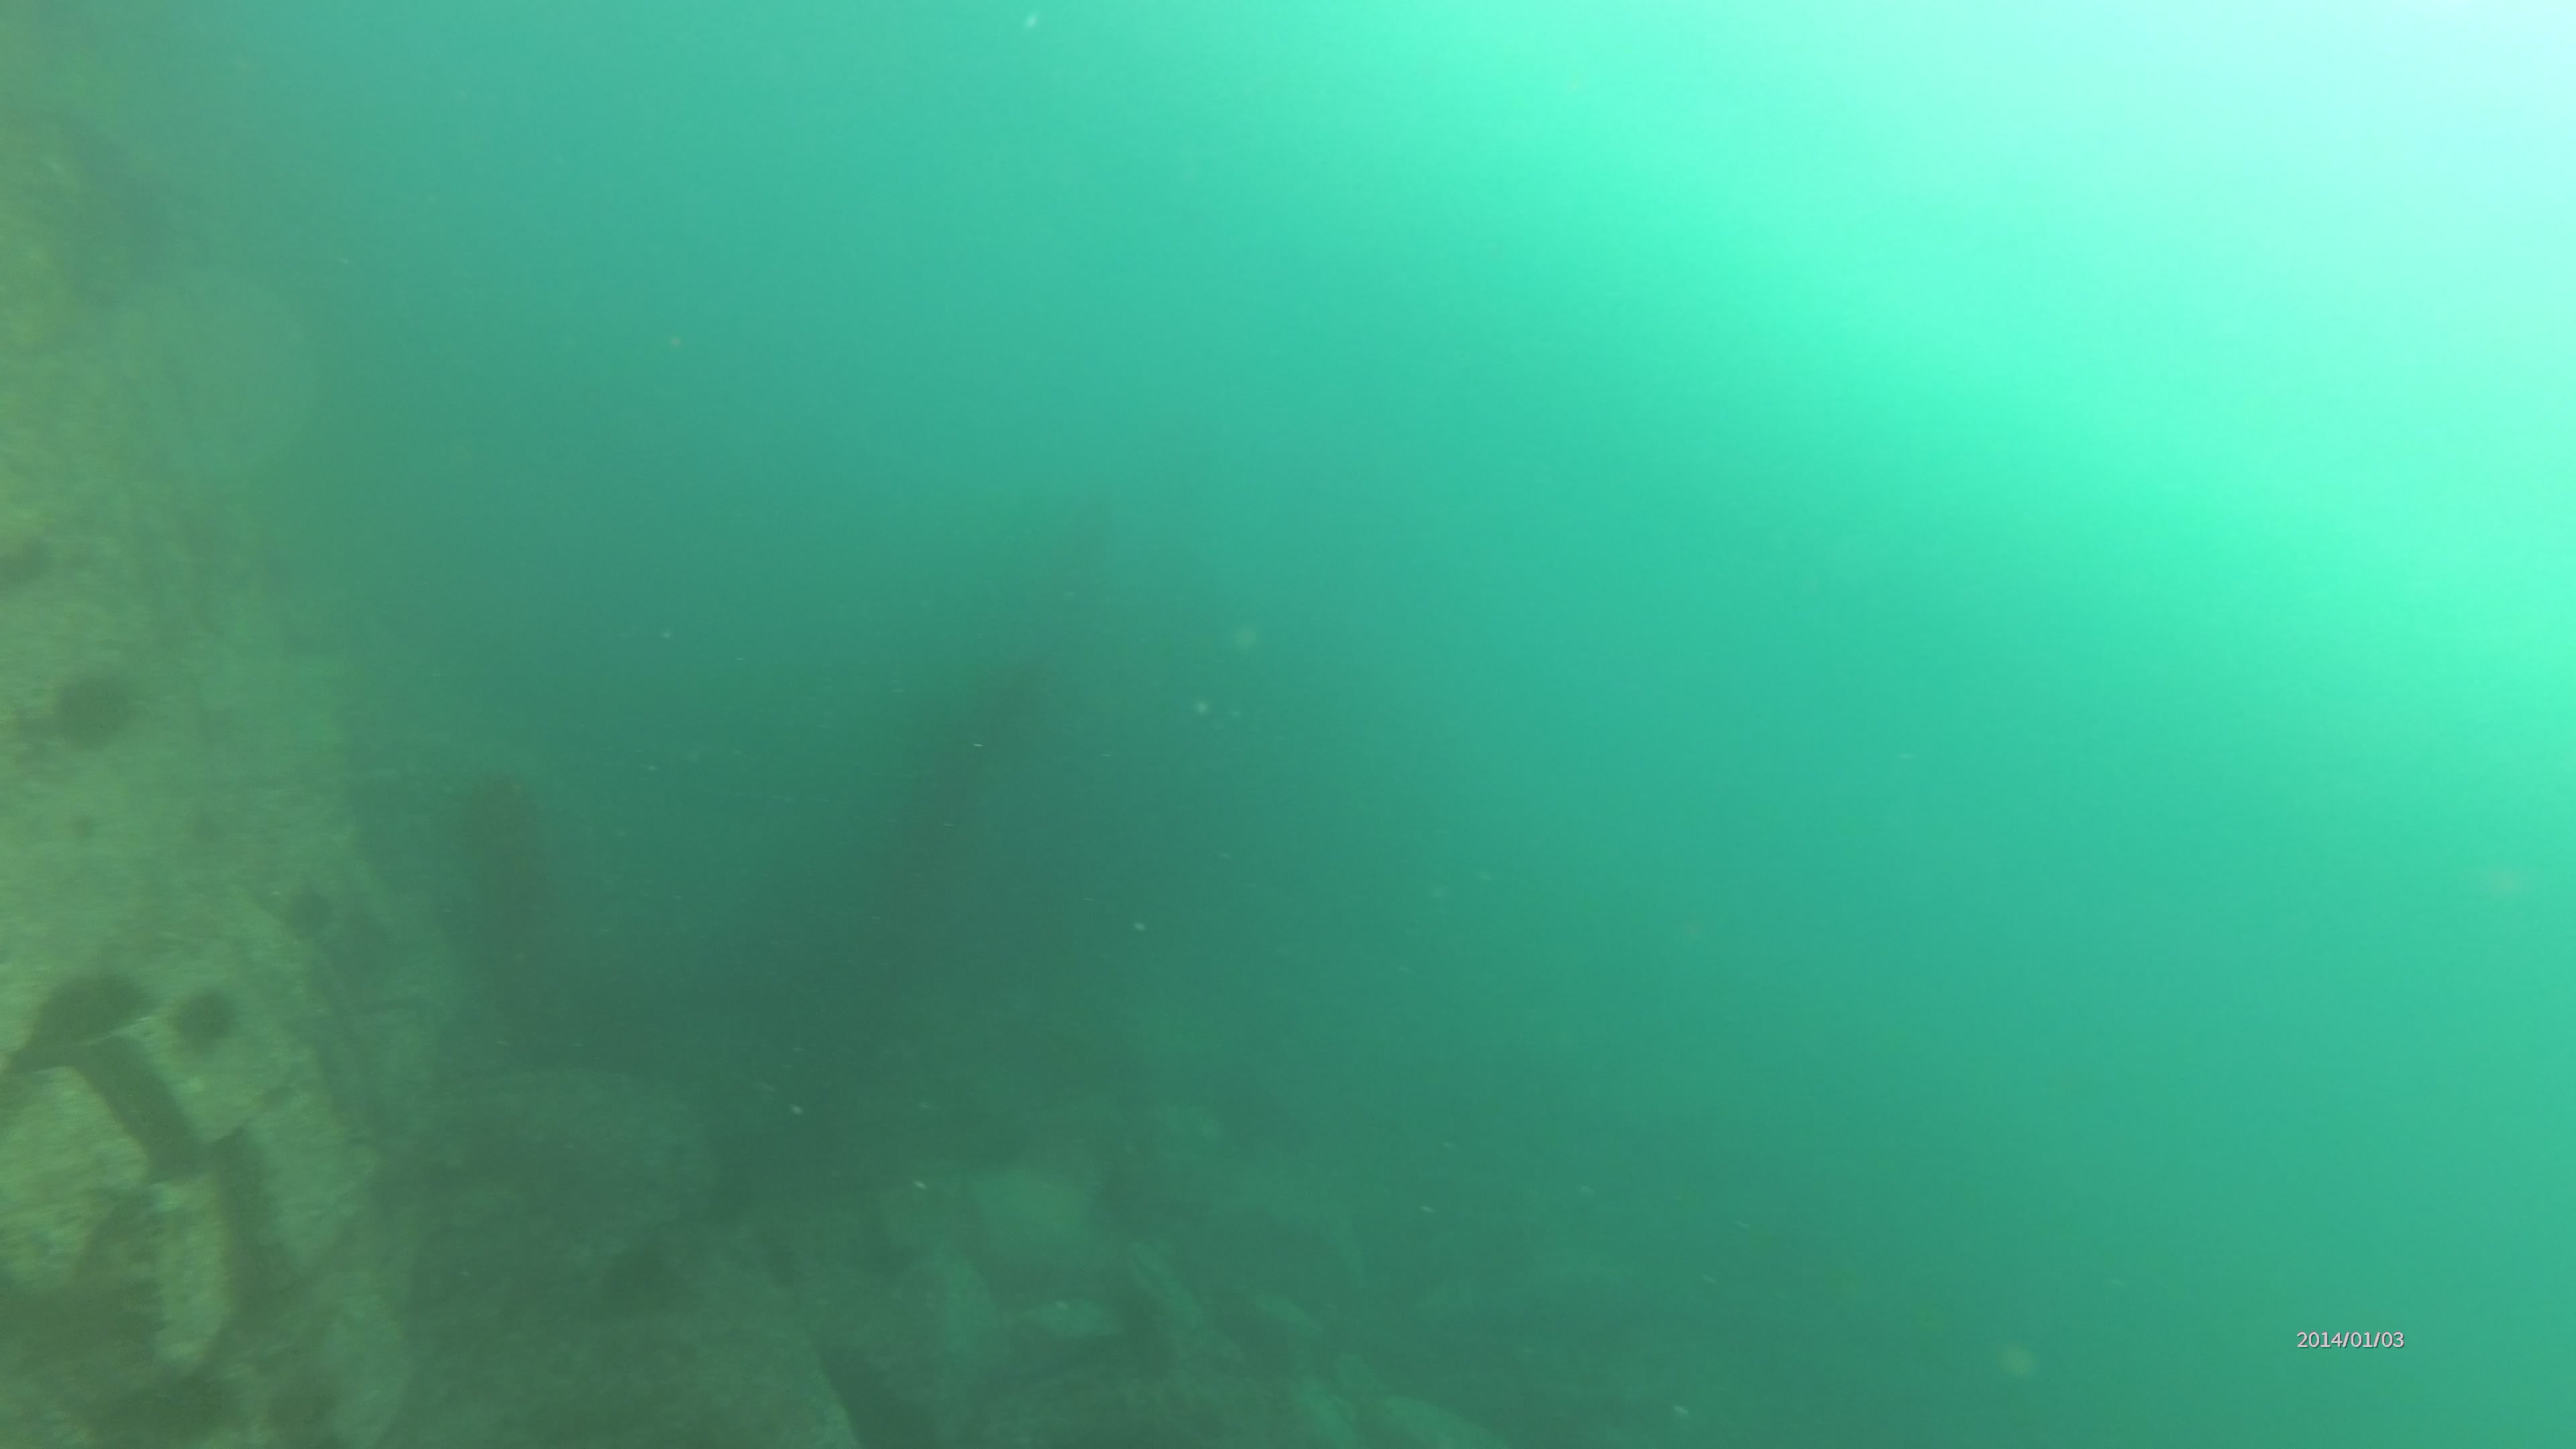echinus: (32, 962, 159, 1053), (58, 674, 142, 759), (175, 978, 244, 1063), (0, 536, 58, 605), (274, 879, 336, 941)
